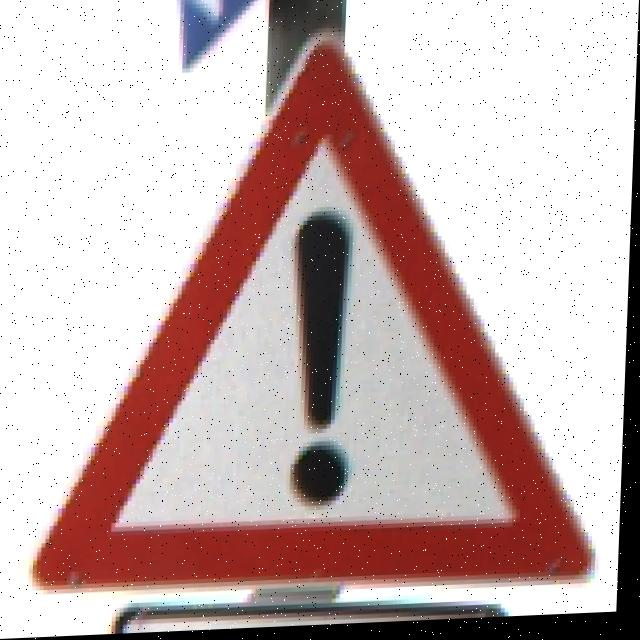warning: (128, 107, 559, 599)
